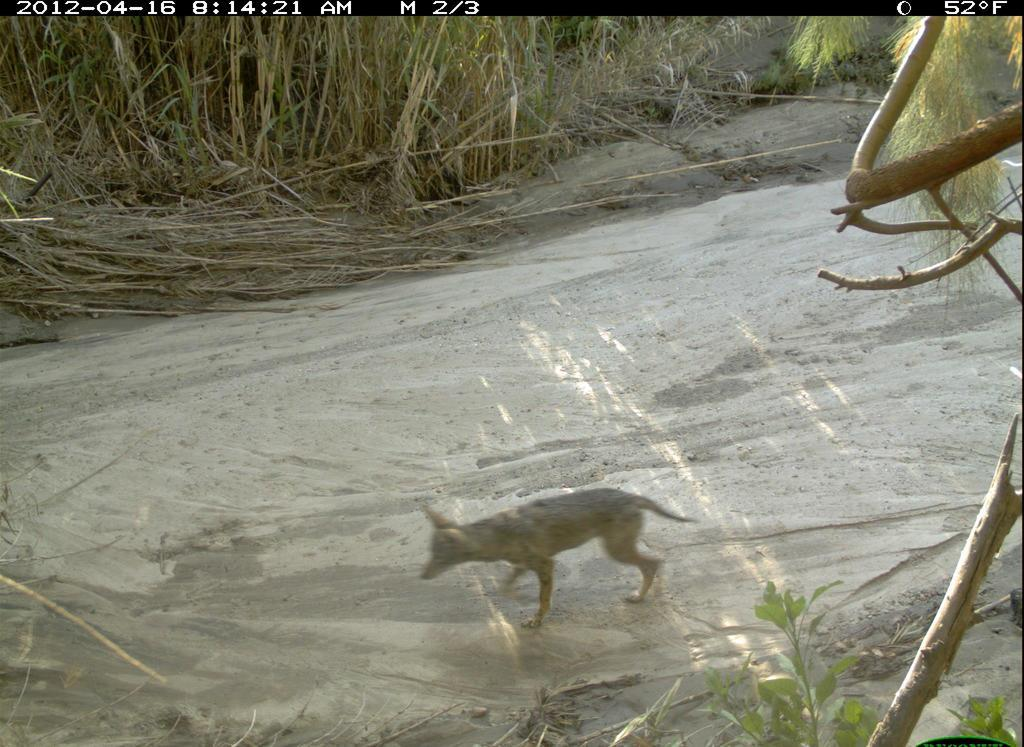coyote: (411, 482, 708, 635)
